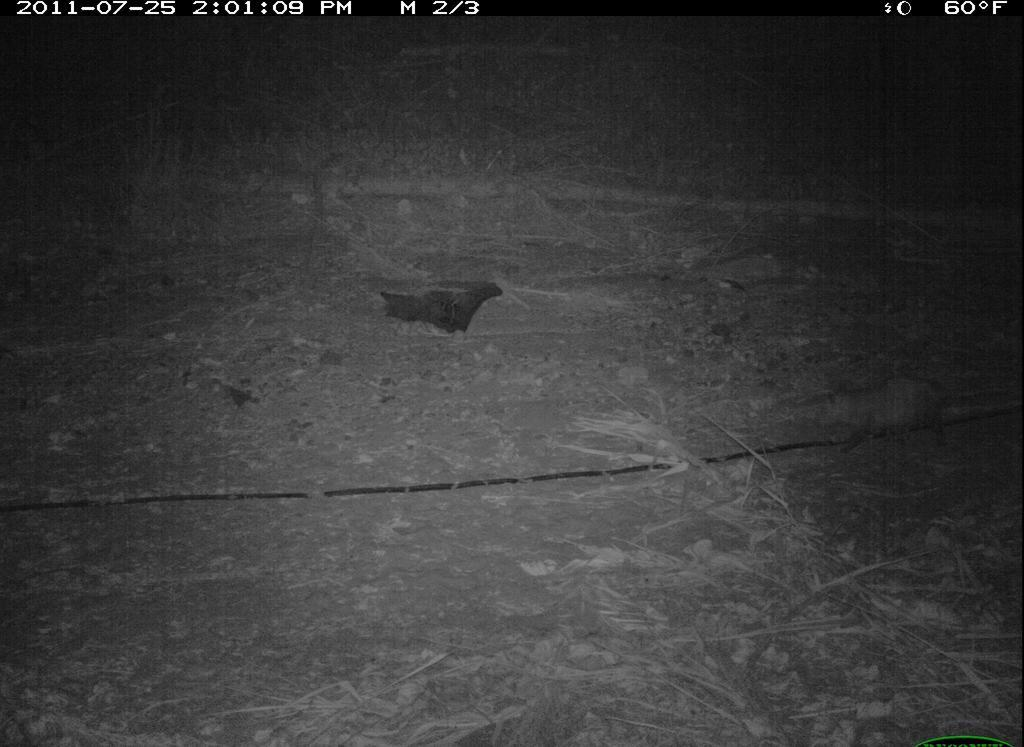opossum: (798, 340, 941, 478), (321, 149, 353, 239)
